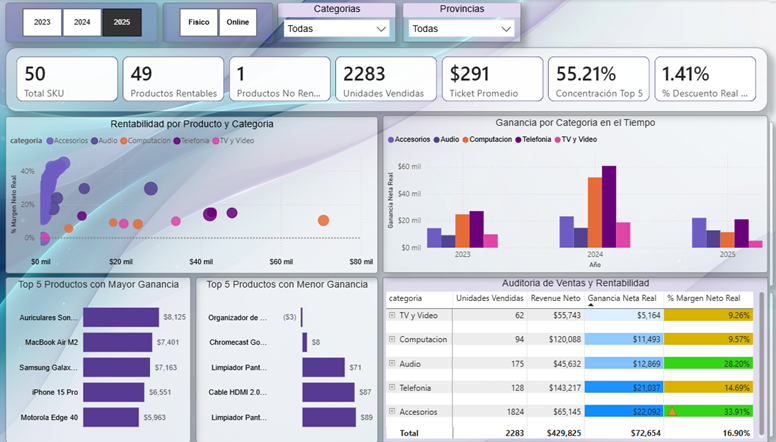

The page's visual inventory and layout, read from the dashboard file:
{"tool":"powerbi","page":{"name":"Performance de Producto","canvas":[1300,740],"ordinal":2},"visuals":[{"type":"clusteredBarChart","title":"Top 5 Productos con Menor Ganancia","fields":{"Y":["_medidas.Ganancia Neta Real"],"Category":["dim_productos.nombre_producto"]},"box":[330.8,464.7,303.5,275.3],"z":0},{"type":"actionButton","box":[0,0,100,40],"z":1000},{"type":"slicer","fields":{"Values":["dim_calendario.Año"]},"box":[14.6,6.8,252.6,66.3],"z":2000},{"type":"slicer","title":"Categorias","fields":{"Values":["dim_productos.categoria"]},"box":[468.1,6.8,197,66.3],"z":3000},{"type":"slicer","title":"Provincias","fields":{"Values":["dim_clientes.provincia"]},"box":[675.8,6.8,197,66.3],"z":4000},{"type":"slicer","fields":{"Values":["fact_pedidos_final.canal_venta"]},"box":[276,6.8,183.3,66.3],"z":5000},{"type":"cardVisual","fields":{"Data":["_medidas_productos.Total SKU","_medidas_productos.Productos Rentables","_medidas_productos.Productos No Rentables","_medidas_productos.Unidades Vendidas","_medidas.Ticket Promedio","_medidas_productos.Concentración Top 5","_medidas.% Descuento Real Aplicado"]},"box":[14.5,80.9,1268.2,107],"z":6000},{"type":"scatterChart","title":"Rentabilidad por Producto y Categoria","fields":{"Category":["dim_productos.nombre_producto"],"Y":["_medidas.% Margen Neto Real"],"Series":["dim_productos.categoria"],"Size":["_medidas_productos.Unidades Vendidas"],"X":["_medidas.Revenue Neto"]},"box":[14.7,196,619.4,261.4],"z":7000},{"type":"pivotTable","title":"Auditoria de Ventas y Rentabilidad","fields":{"Rows":["dim_productos.categoria","dim_productos.nombre_producto"],"Values":["_medidas_productos.Unidades Vendidas","_medidas.Revenue Neto","_medidas.Ganancia Neta Real","_medidas.% Margen Neto Real"]},"box":[641.6,464.7,641.6,275.3],"z":8000},{"type":"clusteredBarChart","title":"Top 5 Productos con Mayor Ganancia","fields":{"Y":["_medidas.Ganancia Neta Real"],"Category":["dim_productos.nombre_producto"]},"box":[14.7,464.7,307.7,275.3],"z":10000},{"type":"clusteredColumnChart","title":"Ganancia por Categoria en el Tiempo","fields":{"Y":["_medidas.Ganancia Neta Real"],"Series":["dim_productos.categoria"],"Category":["dim_calendario.Año"]},"box":[642.4,195.1,640.6,262.3],"z":10002}]}

Visuals, with their boxes in screenshot pixels (x1, y1, x2, y2), scaled from the page's 1300x740 canvas onto the 776x442 screenshot:
"Top 5 Productos con Menor Ganancia" clusteredBarChart: box=[197, 278, 379, 441]
actionButton: box=[0, 0, 60, 24]
slicer - dim_calendario.Año: box=[9, 4, 159, 44]
"Categorias" slicer: box=[279, 4, 397, 44]
"Provincias" slicer: box=[403, 4, 521, 44]
slicer - fact_pedidos_final.canal_venta: box=[165, 4, 274, 44]
cardVisual - _medidas_productos.Total SKU x _medidas_productos.Productos Rentables: box=[9, 48, 766, 112]
"Rentabilidad por Producto y Categoria" scatterChart: box=[9, 117, 379, 273]
"Auditoria de Ventas y Rentabilidad" pivotTable: box=[383, 278, 766, 441]
"Top 5 Productos con Mayor Ganancia" clusteredBarChart: box=[9, 278, 192, 441]
"Ganancia por Categoria en el Tiempo" clusteredColumnChart: box=[383, 117, 766, 273]
